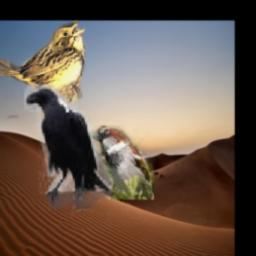Crow: (24, 84, 113, 214)
Sparrow: (0, 21, 86, 120), (91, 126, 154, 200)
